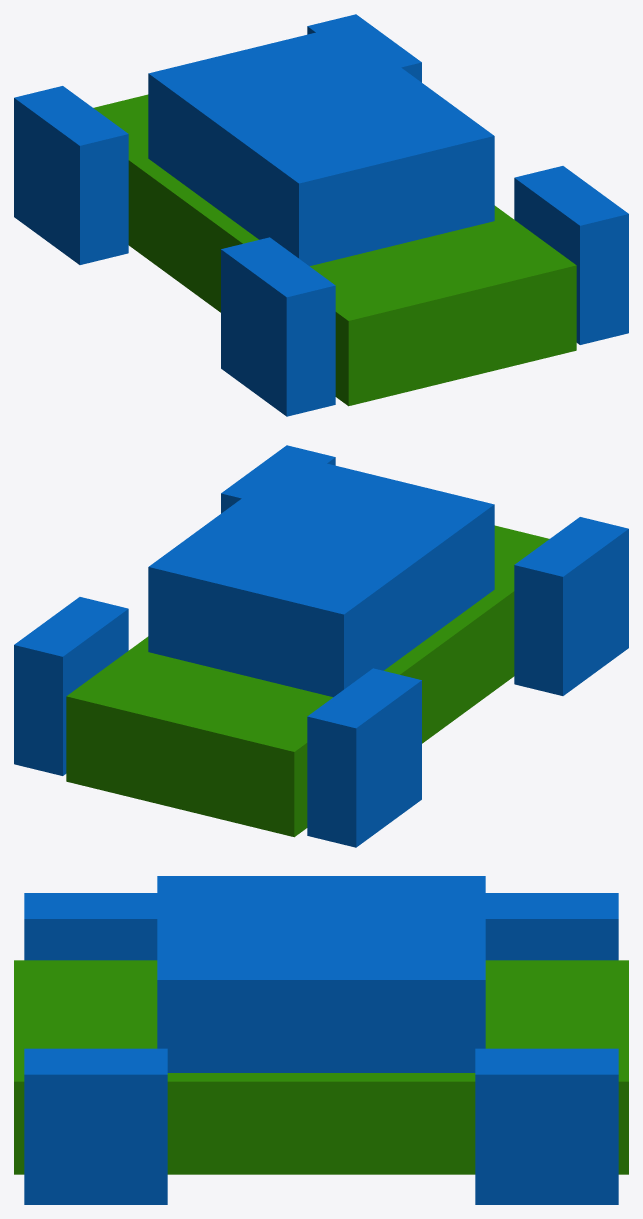
File: car_2.glb
3 renders of one model, top to bottom at view 1: azimuth 30°, elevation 25°; view 2: azimuth 150°, elevation 25°; view 3: azimuth 270°, elevation 25°, orthographic. The views are drawn at different scales.
Size of the model in its own units: 2.1 by 1 by 3.
